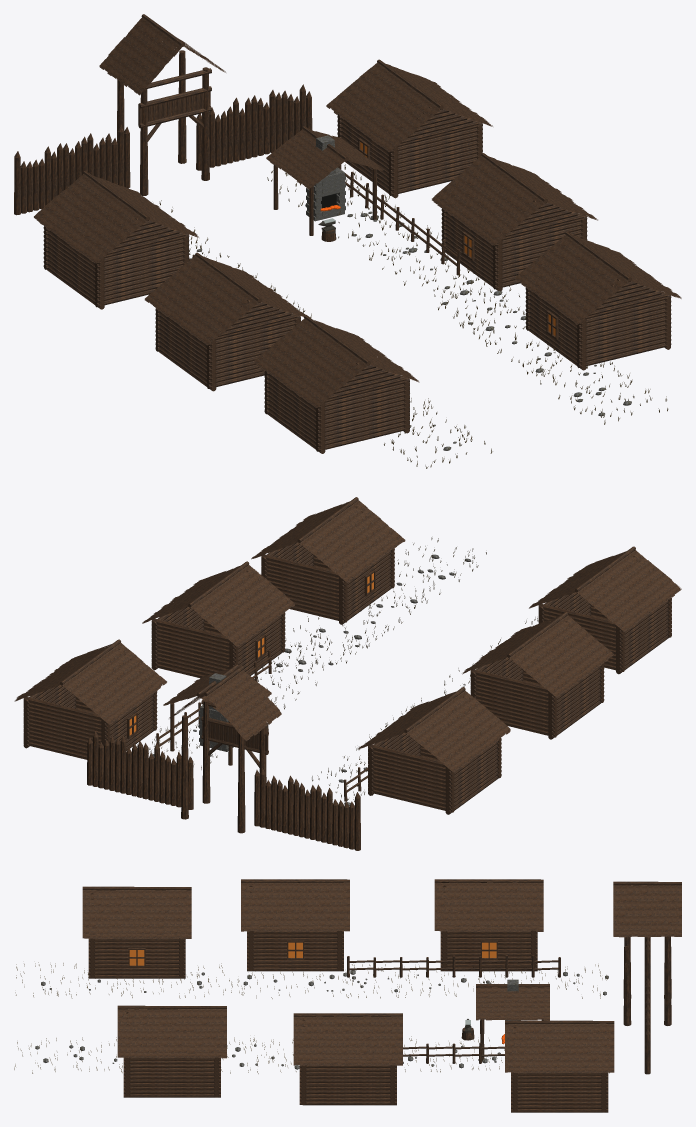
Rendered from smiths_lane.obj.
3 views of the same model, one above another, from view 1: azimuth 30°, elevation 25°; view 2: azimuth 150°, elevation 25°; view 3: azimuth 270°, elevation 25° (orthographic). The views are drawn at different scales.
Size of the model in its own units: 25.02 by 8.22 by 37.94.
10 materials, 4 textured.
